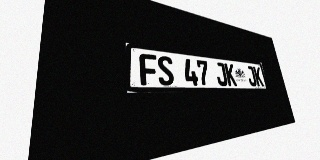4: (183, 58, 199, 86)
7: (196, 60, 211, 86)
F: (139, 53, 159, 85)
J: (214, 62, 228, 86), (246, 66, 257, 86)
K: (224, 63, 237, 86), (253, 66, 264, 86)
S: (157, 55, 175, 86)
